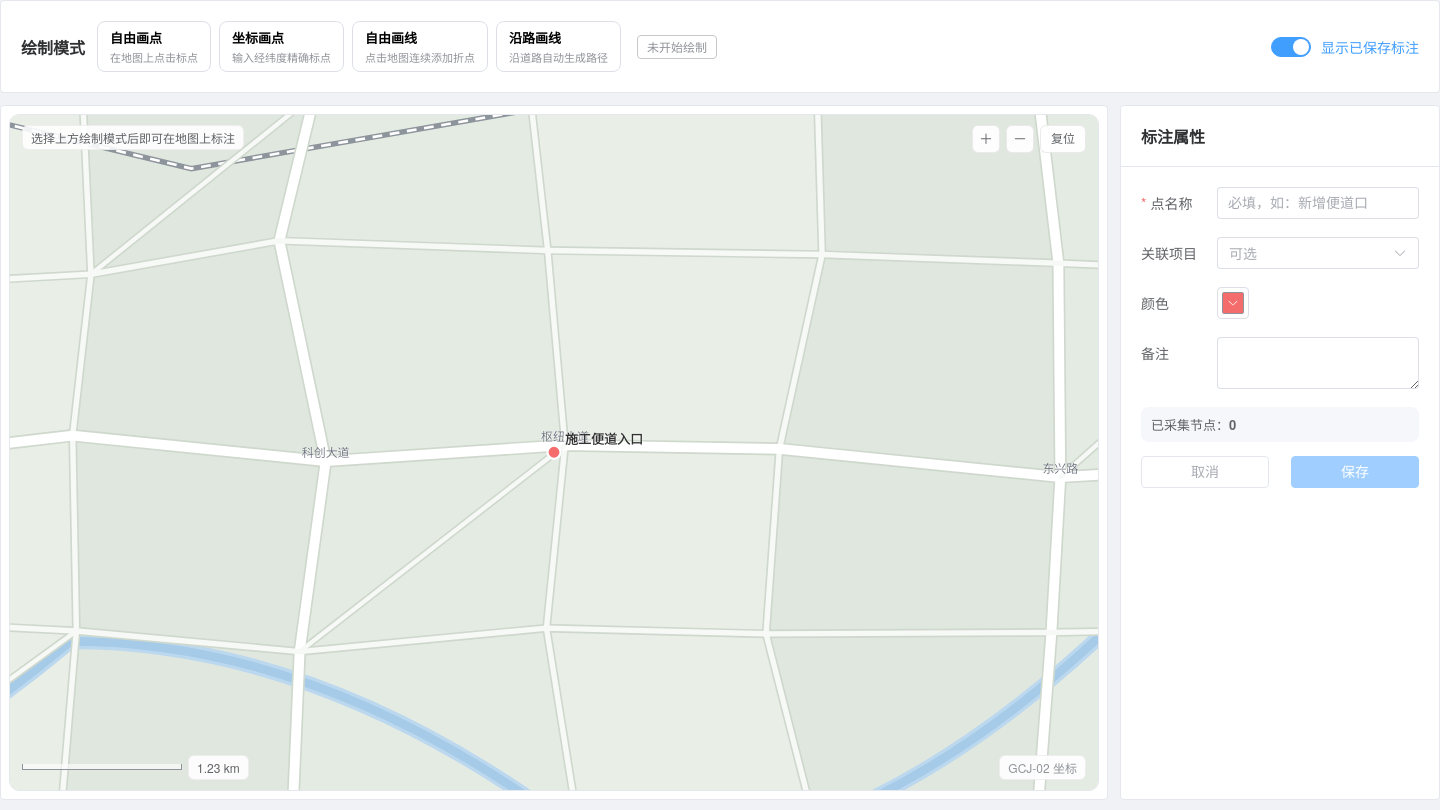
Test: MapDrawView › 选择模式后进入绘制状态并显示对应名称标签
Click the button "自由画线 点击地图连续添加折点": (420, 46) [352,21,488,72]
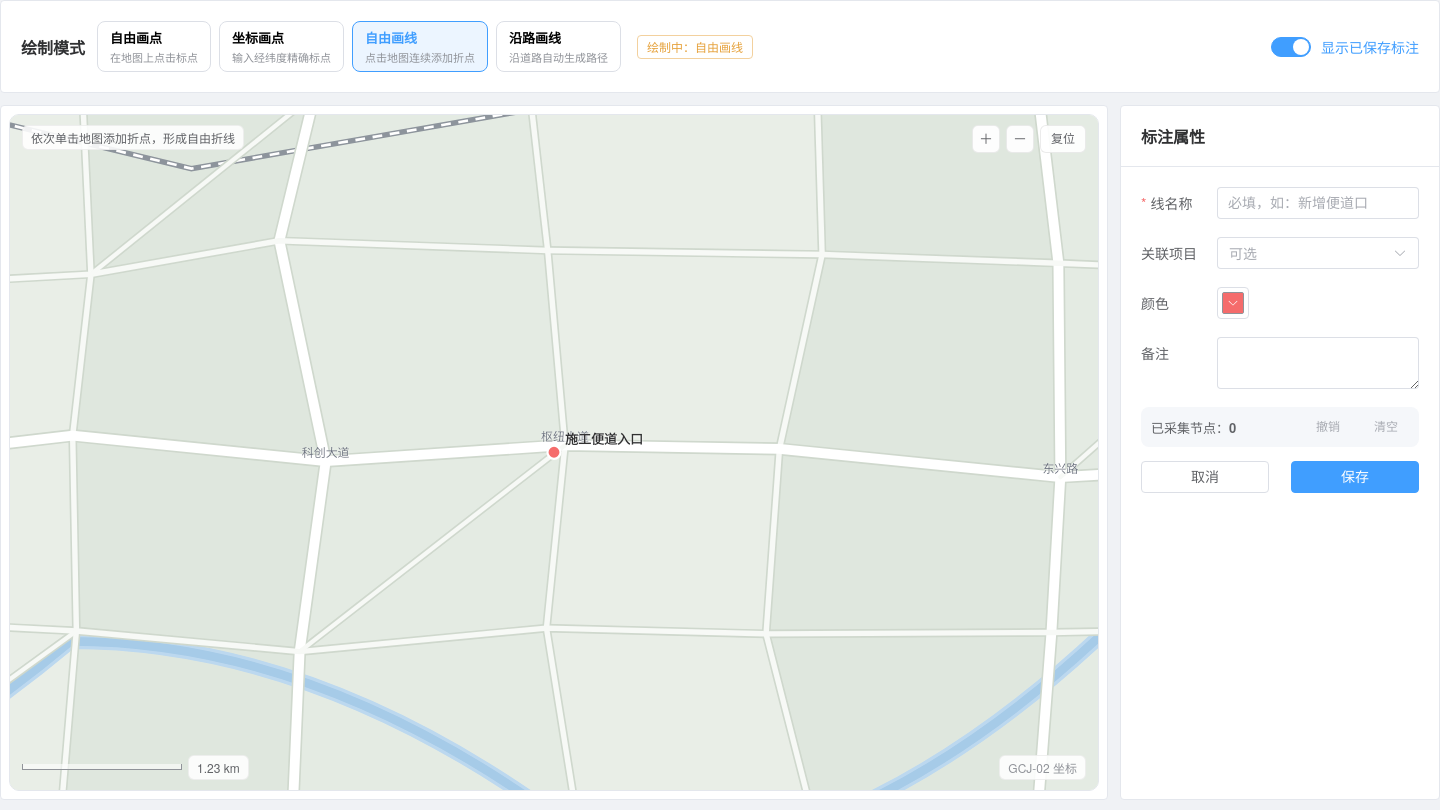
Expected: the text "绘制中：自由画线" is shown, [647,41,743,53]
Expected: the text "线名称" is shown, [1141,187,1217,219]
